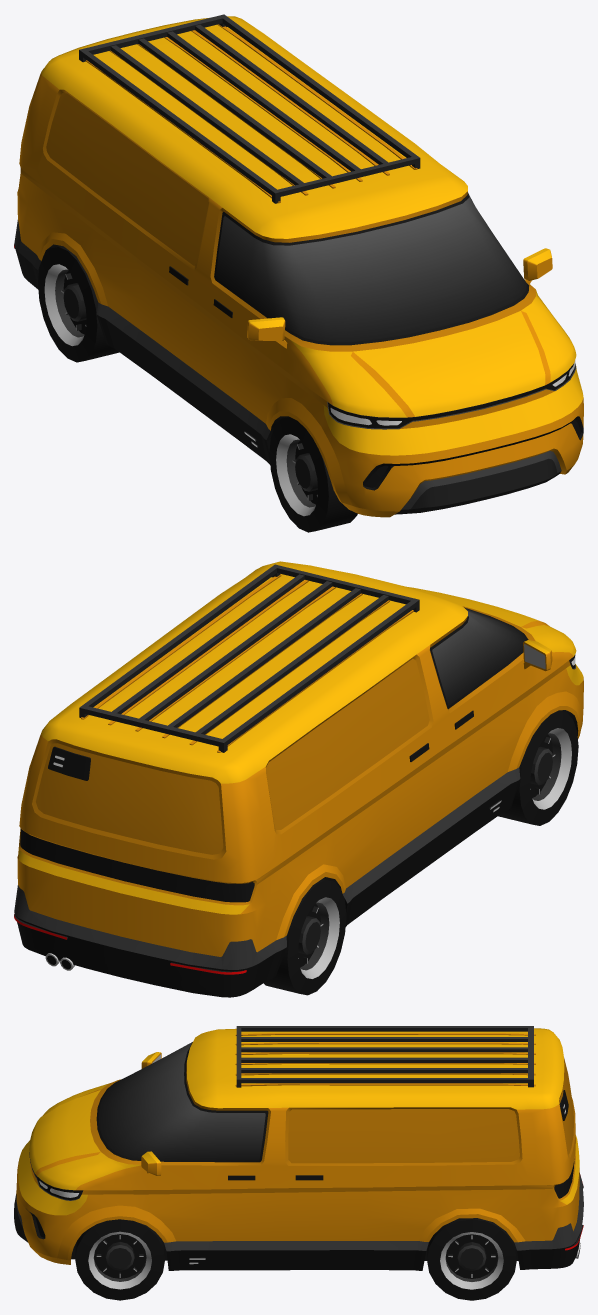
The model's file is Delivery Van.fbx.
3 views of the same model, one above another, from view 1: azimuth 30°, elevation 25°; view 2: azimuth 150°, elevation 25°; view 3: azimuth 270°, elevation 25° (orthographic). The views are drawn at different scales.
Visible parts, largest first — view 1: Delivery_Van_Body, F_R, B_R; view 2: Delivery_Van_Body, B_R, F_R; view 3: Delivery_Van_Body, B_L, F_L.
Part boxes in pixels (x1=…): Delivery_Van_Body: x1=14, y1=14, x2=583, y2=517; F_R: x1=269, y1=416, x2=357, y2=532; B_R: x1=38, y1=246, x2=119, y2=362; Delivery_Van_Body: x1=14, y1=561, x2=583, y2=997; B_R: x1=263, y1=878, x2=346, y2=995; F_R: x1=498, y1=710, x2=578, y2=825; Delivery_Van_Body: x1=14, y1=1026, x2=583, y2=1270; B_L: x1=427, y1=1218, x2=516, y2=1300; F_L: x1=75, y1=1219, x2=165, y2=1300.
Size of the model in its own units: 238 by 200 by 512.
